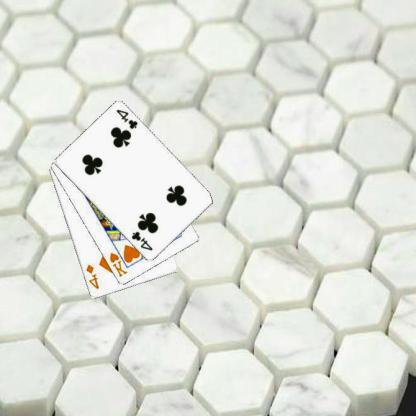4C: (130, 229, 156, 252), (115, 107, 141, 130)
4D: (85, 262, 102, 291)
KH: (109, 249, 130, 278)
